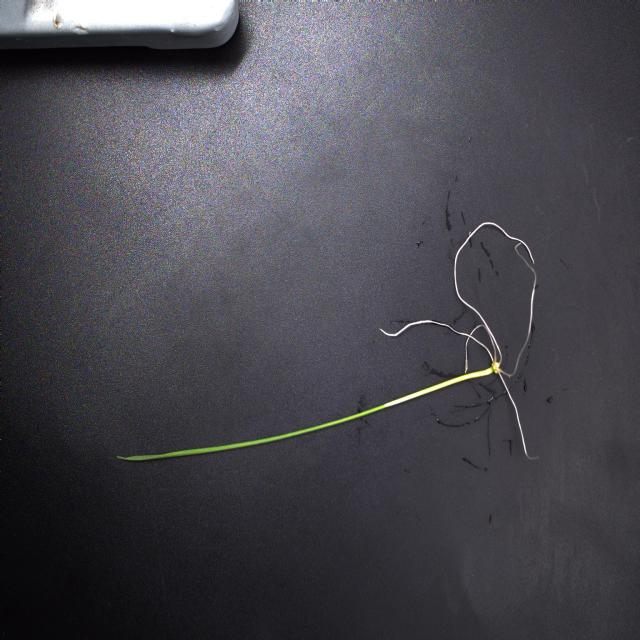leaf: (116, 404, 387, 464)
root: (377, 220, 545, 463)
stem: (382, 365, 495, 411)
